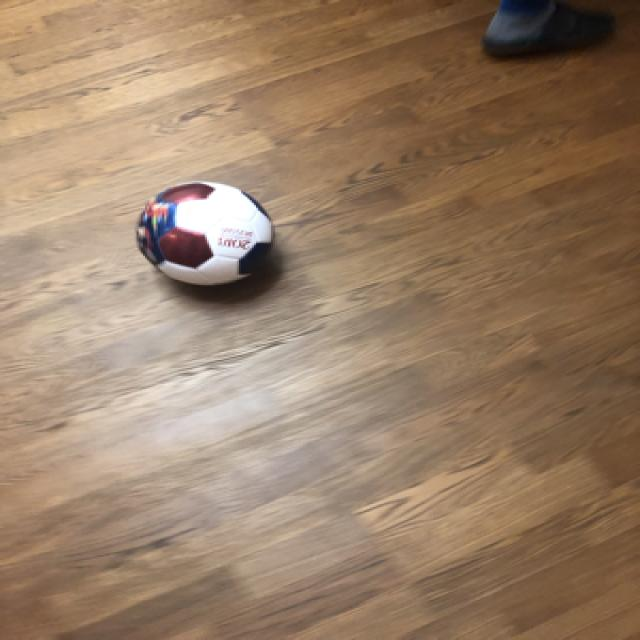soccer_ball: (130, 176, 277, 288)
